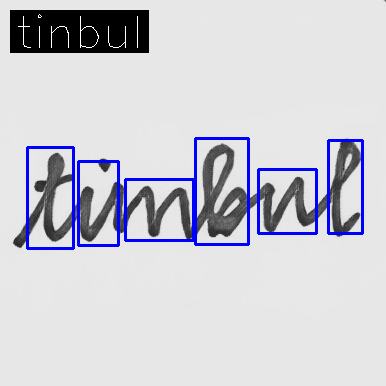b: (200, 141, 250, 239)
i: (79, 156, 113, 242)
l: (327, 135, 364, 241)
m: (108, 179, 192, 239)
t: (32, 149, 76, 243)
u: (260, 174, 308, 234)
